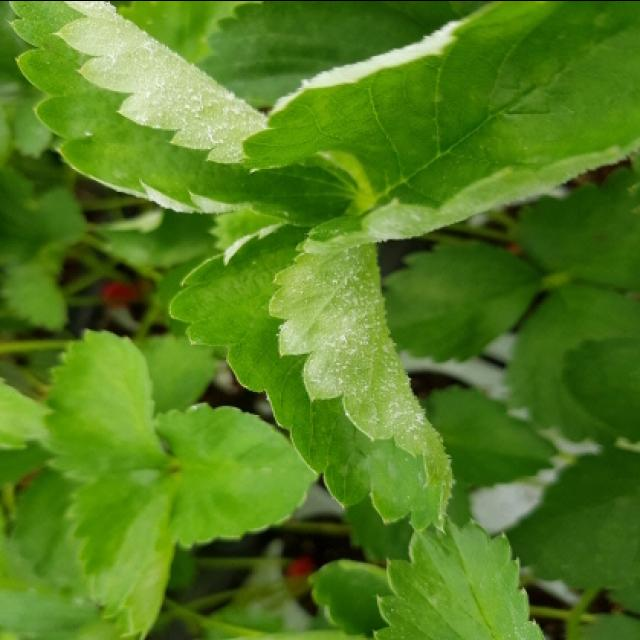Powdery Mildew Leaf: (237, 0, 638, 253), (169, 221, 454, 534), (9, 0, 352, 227)
